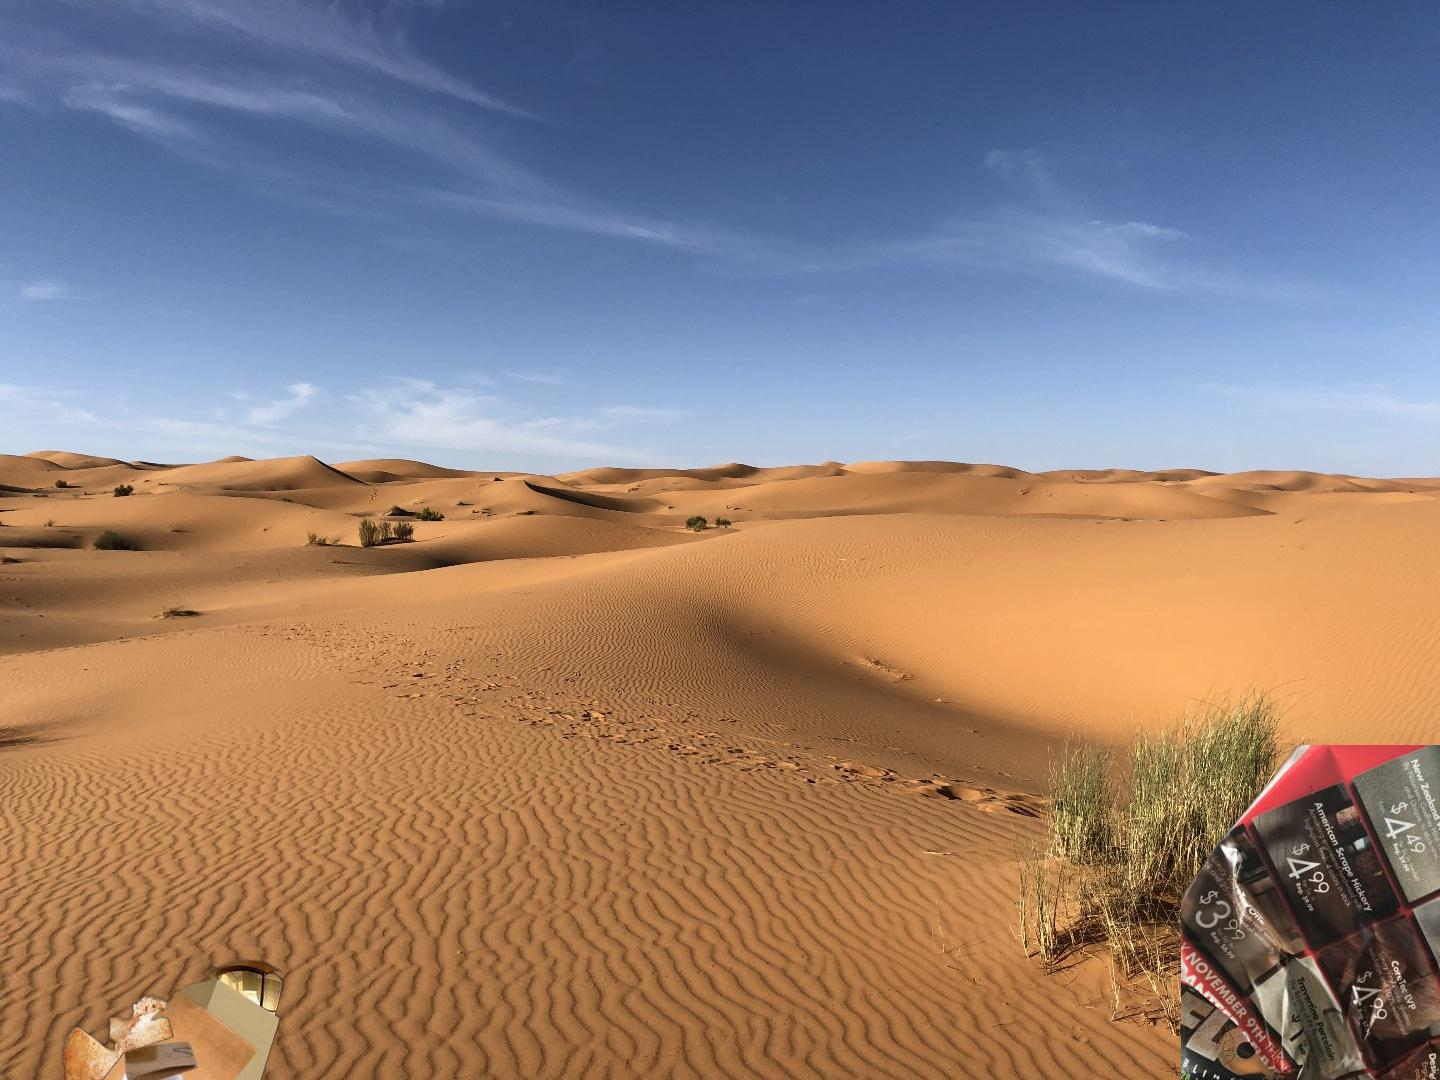biological: (59, 978, 263, 1080)
paper: (1181, 745, 1440, 1080)
paper-bag: (69, 892, 287, 1080)
